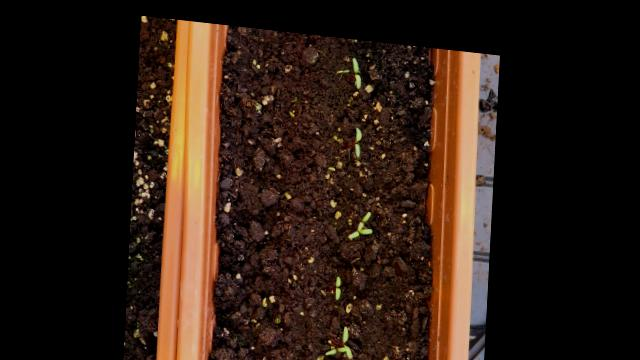crop: (350, 44, 365, 85), (353, 112, 366, 154), (336, 262, 348, 293)
